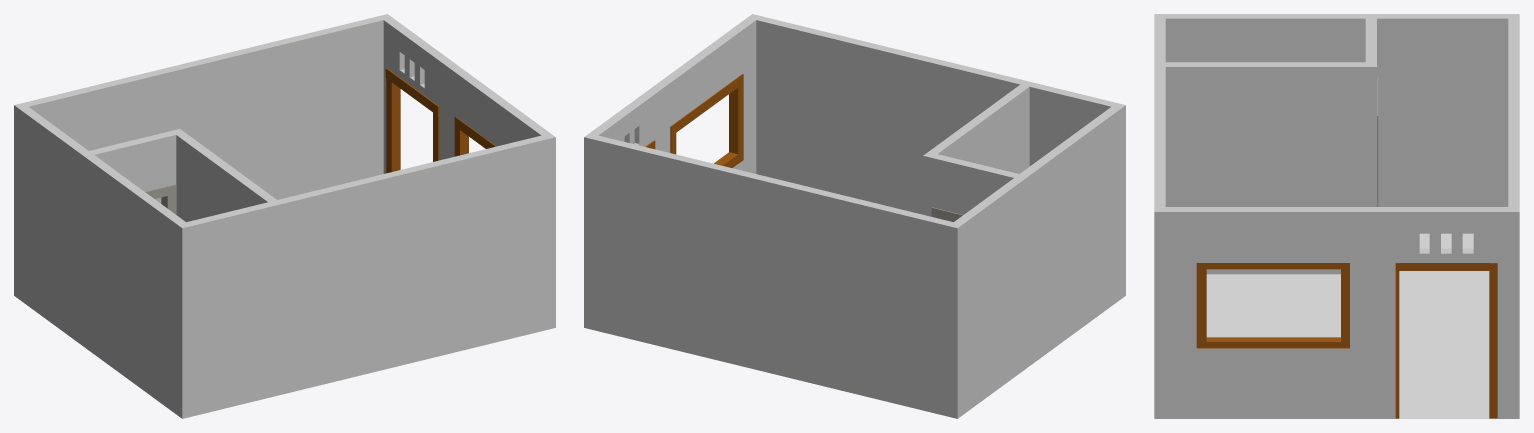
Rendered from Kamar.fbx.
The picture shows the model from 3 angles, left to right: view 1: azimuth 30°, elevation 25°; view 2: azimuth 150°, elevation 25°; view 3: azimuth 270°, elevation 25°; orthographic projection. The views are drawn at different scales.
Visible parts, largest first — view 1: Plane.002, Plane.001, Plane.003, Plane.004, Plane.005, Plane.006, Cube, Cube.003, Cube.002; view 2: Plane.001, Plane.002, Plane.003, Plane.004, Plane.005, Plane.006, Cube.003; view 3: Plane.004, Plane.003, Plane.005, Plane, Plane.001, Plane.002, Cube.003, Cube, Plane.006.
Boxes of the visible parts, bbox=[...] form: Plane.002: bbox=[186, 133, 555, 416]; Plane.001: bbox=[24, 14, 392, 203]; Plane.003: bbox=[14, 103, 191, 418]; Plane.004: bbox=[383, 18, 549, 173]; Plane.005: bbox=[176, 132, 276, 222]; Plane.006: bbox=[89, 129, 184, 191]; Cube: bbox=[385, 68, 439, 173]; Cube.003: bbox=[454, 116, 496, 156]; Cube.002: bbox=[145, 184, 176, 214]; Plane.001: bbox=[584, 133, 953, 416]; Plane.002: bbox=[747, 14, 1115, 214]; Plane.003: bbox=[948, 103, 1125, 418]; Plane.004: bbox=[590, 18, 756, 173]; Plane.005: bbox=[928, 84, 1029, 173]; Plane.006: bbox=[923, 152, 1018, 216]; Cube.003: bbox=[670, 74, 743, 167]; Plane.004: bbox=[1165, 207, 1508, 418]; Plane.003: bbox=[1154, 14, 1519, 206]; Plane.005: bbox=[1165, 62, 1365, 274]; Plane: bbox=[1206, 233, 1497, 418]; Plane.001: bbox=[1508, 18, 1519, 418]; Plane.002: bbox=[1154, 18, 1165, 418]; Cube.003: bbox=[1196, 263, 1349, 348]; Cube: bbox=[1395, 263, 1497, 418]; Plane.006: bbox=[1365, 18, 1376, 206].
Bounding box in the file's own units: 410 × 200 × 320.
